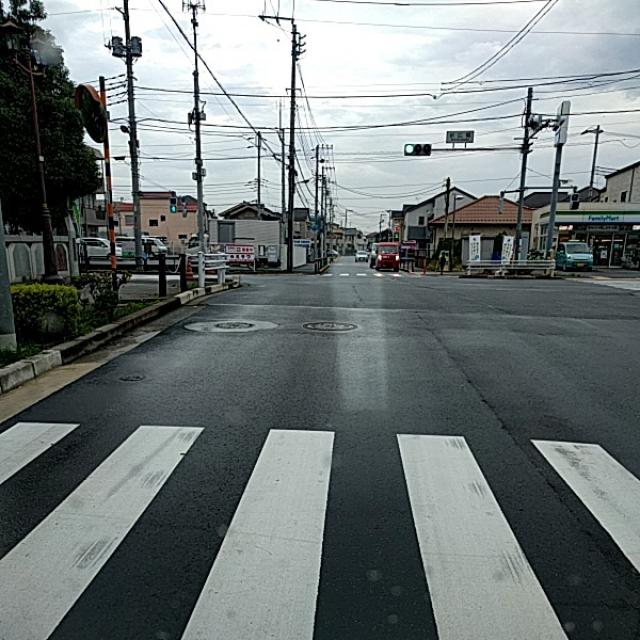pothole: (103, 361, 173, 394)
